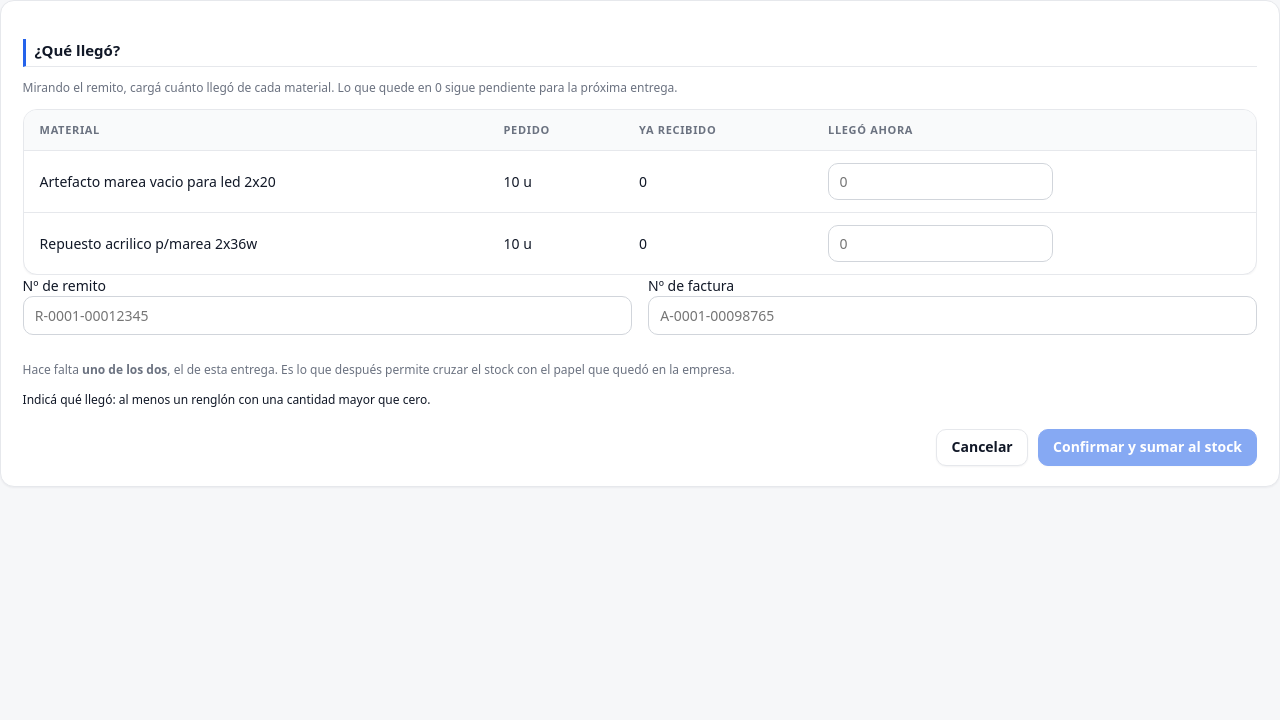
Test: RecibirMercaderia › no deja recibir más de lo que falta, ni sin comprobante
Check: the button "Confirmar y sumar al stock" is disabled, box [1038, 429, 1257, 466]
Type "A-1" into the field labelled "Nº de factura".
click(953, 316); type("A-1")  # box [648, 296, 1257, 335]
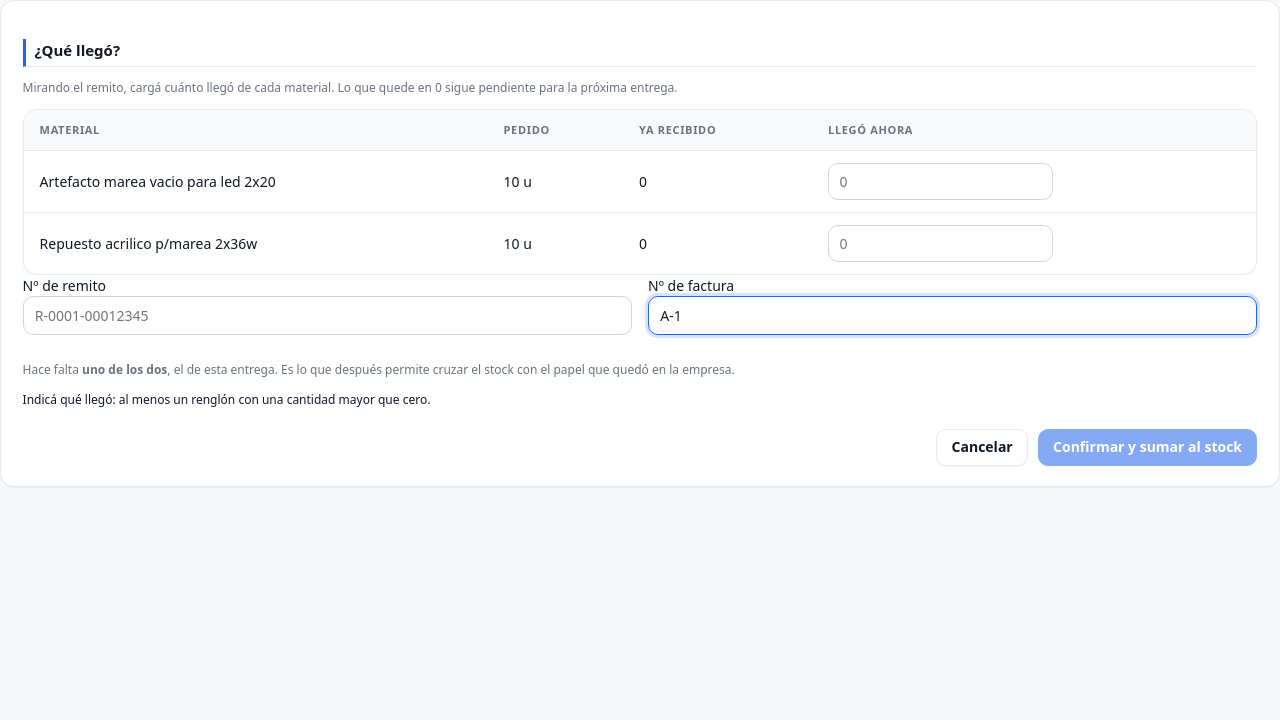
Check: the button "Confirmar y sumar al stock" is disabled, box [1038, 429, 1257, 466]
Type "3" into the number field named "Cuánto llegó de Repuesto acrilico p/marea 2x36w".
click(940, 244); type("3")  # box [828, 225, 1053, 262]
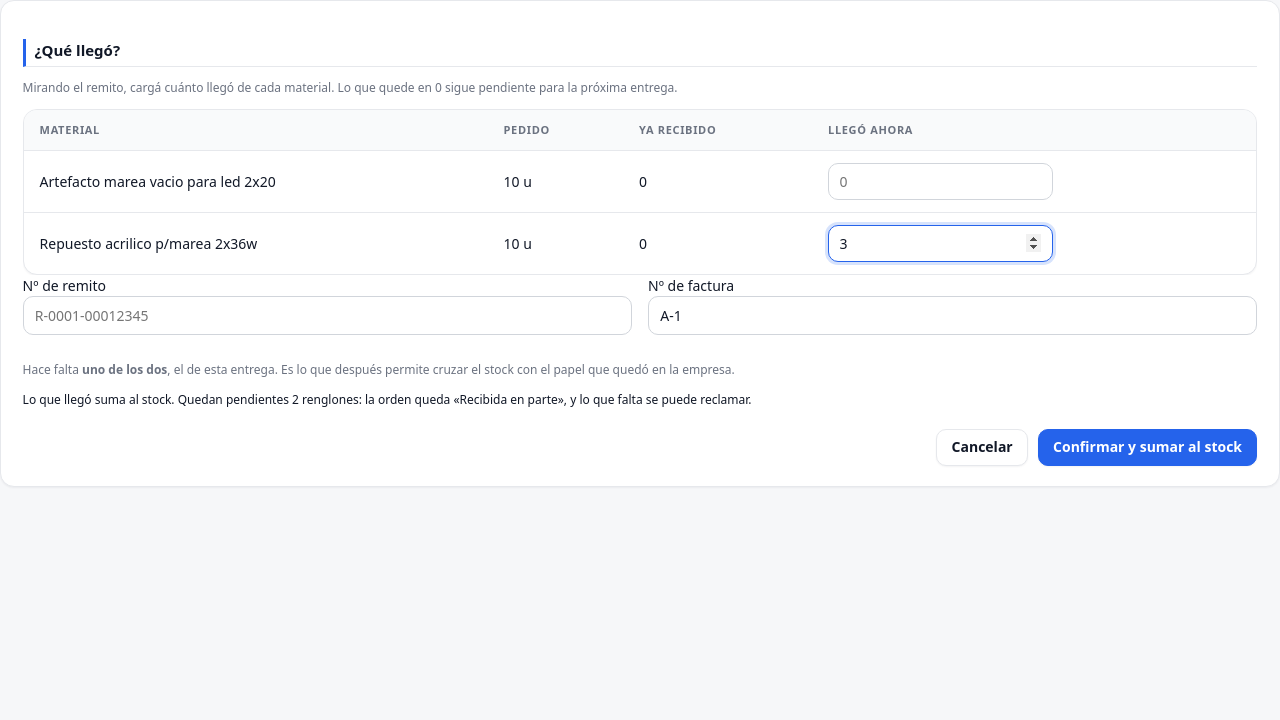
Check: the button "Confirmar y sumar al stock" is enabled, box [1038, 429, 1257, 466]
Type "12" into the number field named "Cuánto llegó de Artefacto marea vacio para led 2x20".
click(940, 182); type("12")  # box [828, 163, 1053, 200]
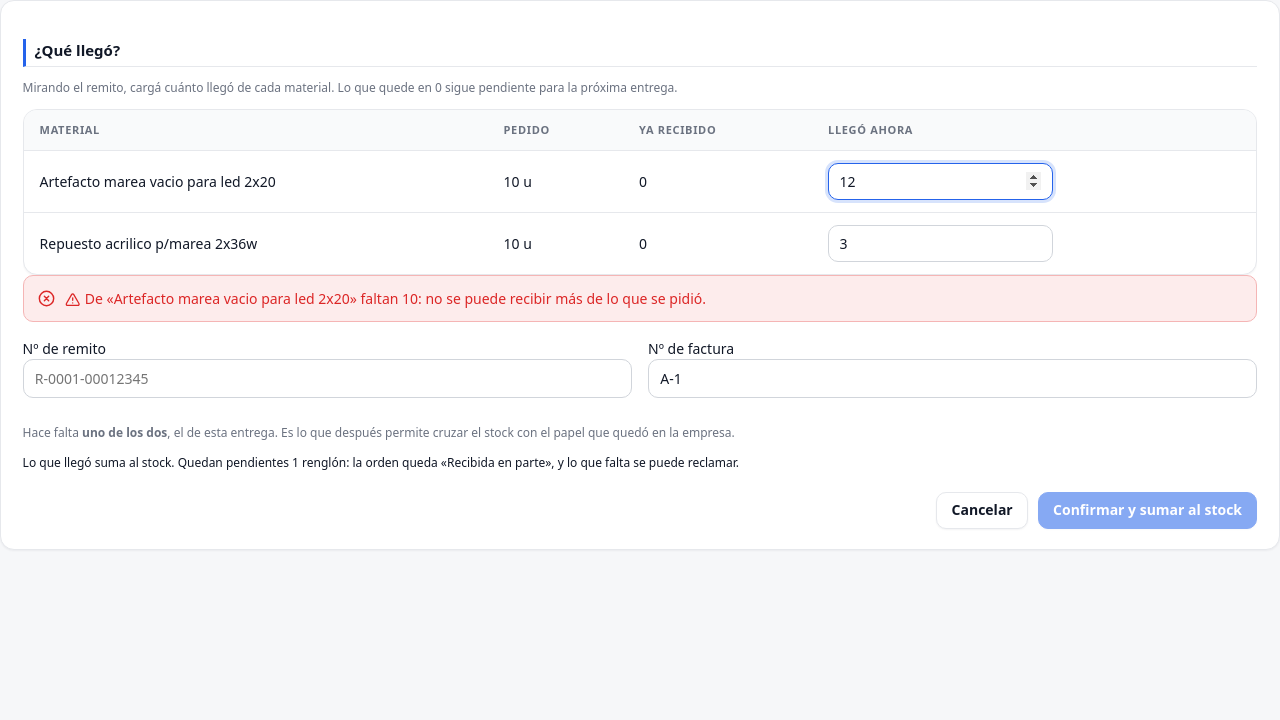
Check: the text "no se puede recibir más de lo que se pidió" is shown, box [418, 289, 706, 308]
Check: the button "Confirmar y sumar al stock" is disabled, box [1038, 492, 1257, 529]
